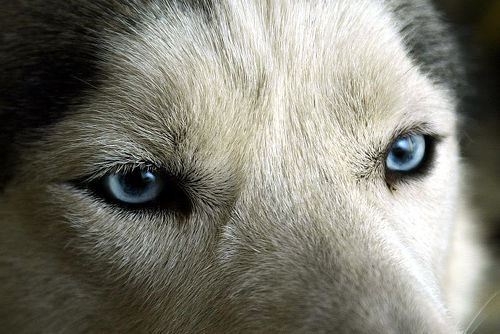dog: (1, 3, 499, 333)
